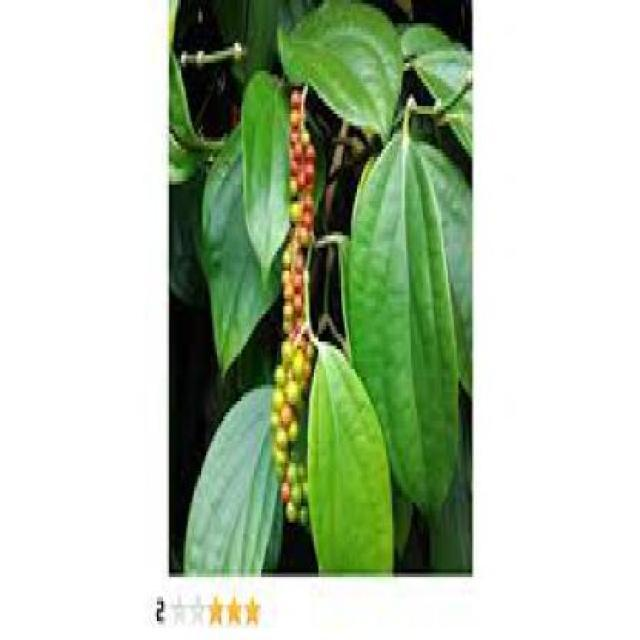RIPE: (271, 83, 318, 542)
